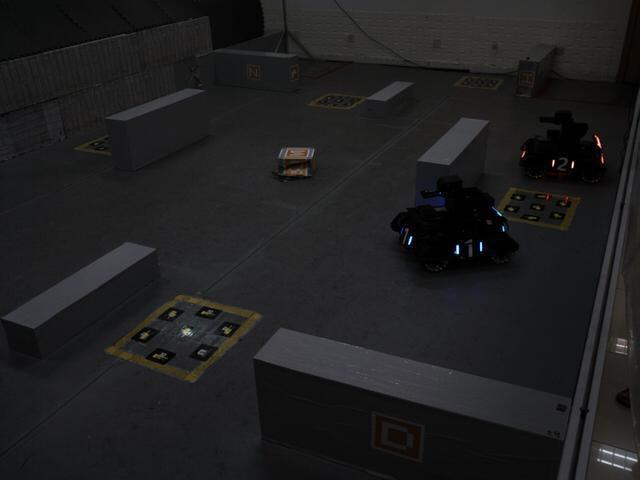armor: (452, 232, 487, 262), (548, 154, 580, 175)
